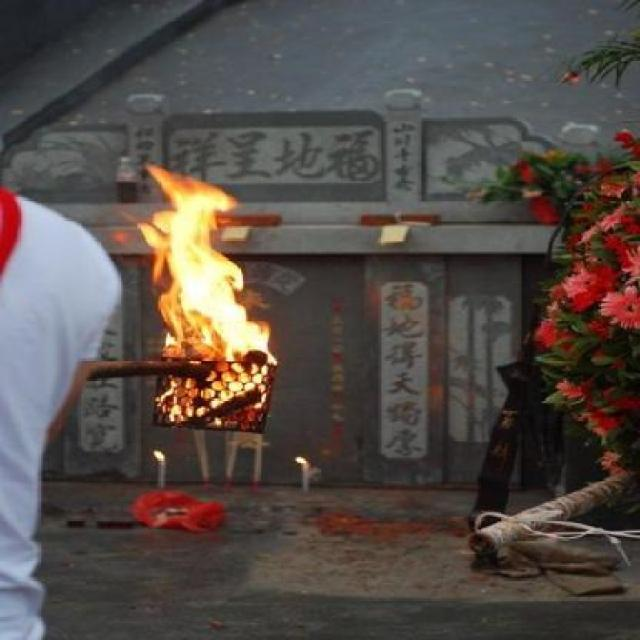Fire: (133, 164, 277, 427), (295, 452, 310, 472), (152, 448, 170, 464)
